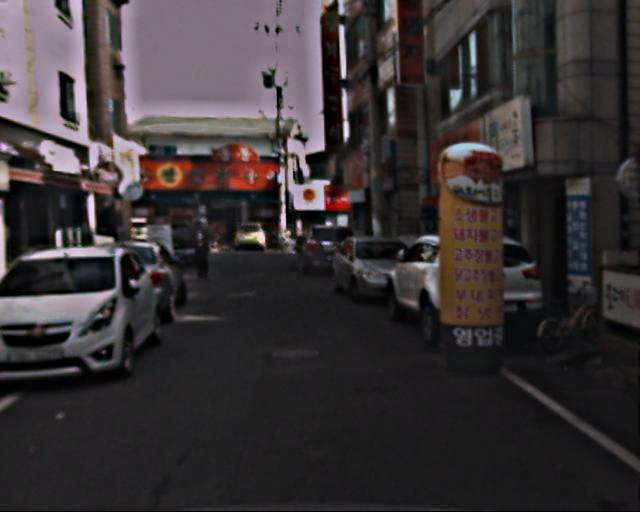person: (186, 220, 216, 283)
